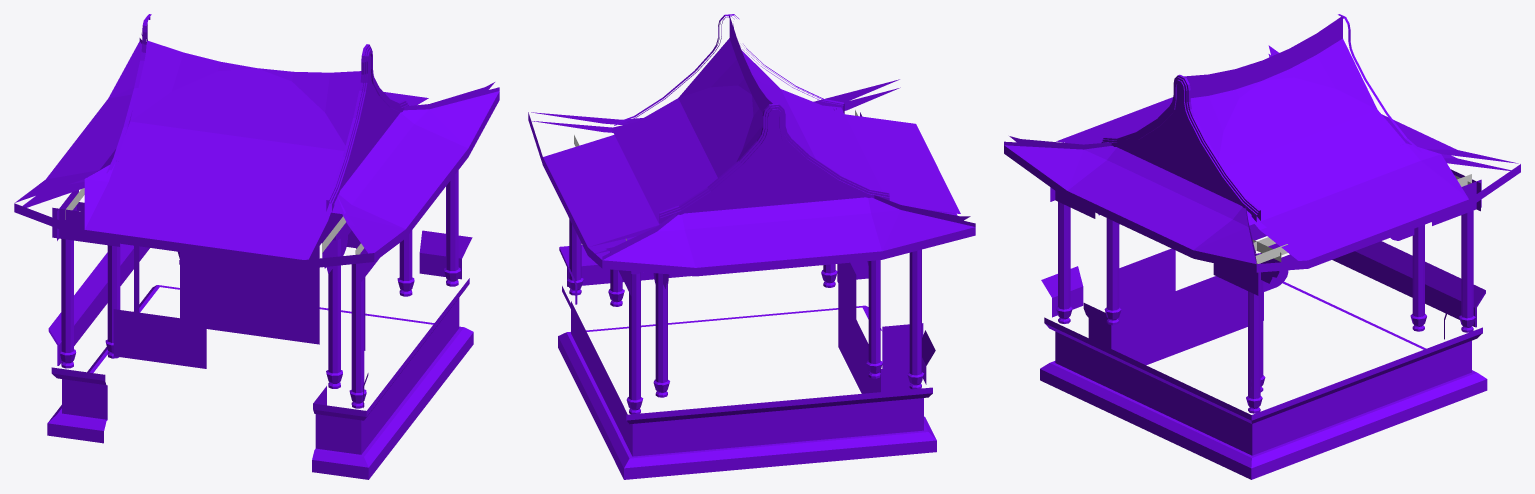
3 views of the same model, side by side, from view 1: azimuth 30°, elevation 25°; view 2: azimuth 150°, elevation 25°; view 3: azimuth 270°, elevation 25° (orthographic). The views are drawn at different scales.
Parts seen in each view (by area): view 1: skp3DD9_001, Component_001, Component#1_001, Component#1_002; view 2: skp3DD9_001, Component_002, Component#1_002, Component#1_001; view 3: skp3DD9_001, Component#1_001, Component_001.
Part boxes in pixels (x1,y1,x2,y2): skp3DD9_001: (14, 33, 499, 479); Component_001: (326, 46, 370, 211); Component#1_001: (365, 44, 408, 152); Component#1_002: (106, 16, 149, 173); skp3DD9_001: (528, 16, 975, 479); Component_002: (659, 104, 774, 223); Component#1_002: (774, 103, 889, 205); Component#1_001: (614, 14, 729, 125); skp3DD9_001: (1004, 16, 1520, 479); Component#1_001: (1179, 76, 1260, 221); Component_001: (1101, 74, 1182, 176).
Size of the model in its own units: 657 by 472 by 655.
